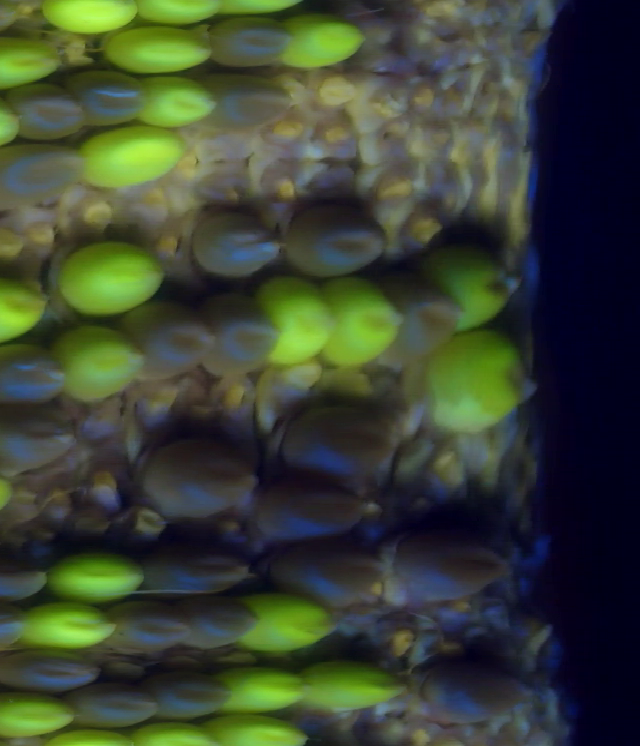fluorescent: (62, 234, 174, 316), (436, 340, 530, 423), (442, 240, 515, 339), (55, 330, 144, 402), (328, 281, 403, 366), (84, 124, 181, 189), (283, 8, 368, 79), (241, 595, 336, 649), (277, 273, 329, 365), (219, 665, 310, 717), (317, 662, 400, 718), (48, 553, 141, 601), (109, 39, 207, 76), (32, 1, 132, 34), (25, 607, 112, 643), (133, 1, 226, 33), (145, 79, 215, 121), (0, 691, 64, 736), (0, 49, 58, 95), (0, 295, 48, 347)
nonfluorescent: (271, 402, 409, 479), (139, 431, 249, 518), (183, 202, 290, 291), (261, 482, 383, 549), (403, 531, 525, 598), (293, 202, 386, 284), (429, 655, 529, 730), (133, 298, 209, 389), (274, 555, 390, 611), (393, 268, 449, 375), (210, 300, 274, 389), (0, 143, 83, 208), (145, 669, 236, 727), (138, 545, 258, 588), (10, 78, 91, 136), (207, 73, 293, 126), (0, 342, 58, 413), (210, 20, 286, 73), (187, 597, 257, 653), (0, 418, 78, 466), (0, 666, 103, 702), (119, 601, 184, 656), (0, 543, 54, 607), (77, 66, 141, 120), (88, 685, 149, 727), (0, 614, 38, 650), (0, 5, 39, 36)
